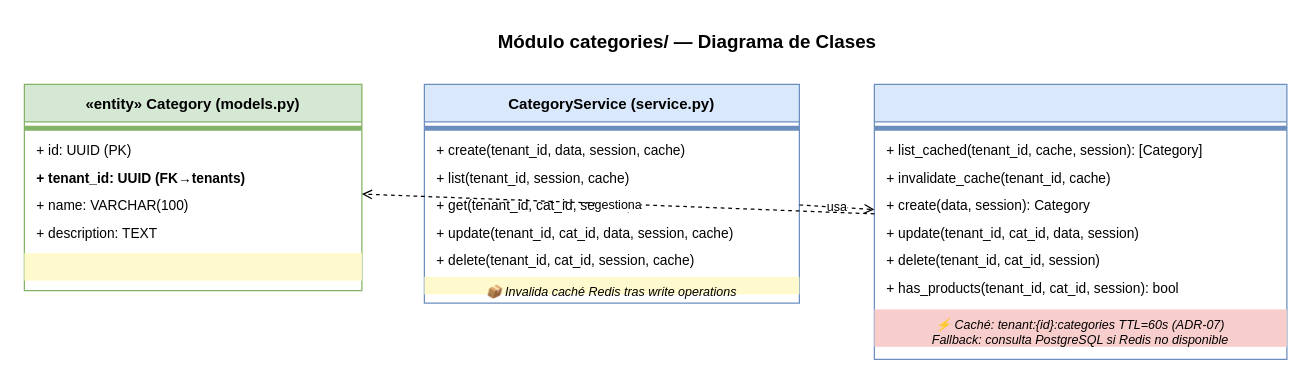
This 1310x381 diagram has some shape labels left out. Each missing label, with the box of its shape:
CategoryRepository (repository.py): (873, 83, 1287, 359)
🔒 tenant_id en WHERE — siempre: (24, 252, 361, 280)
